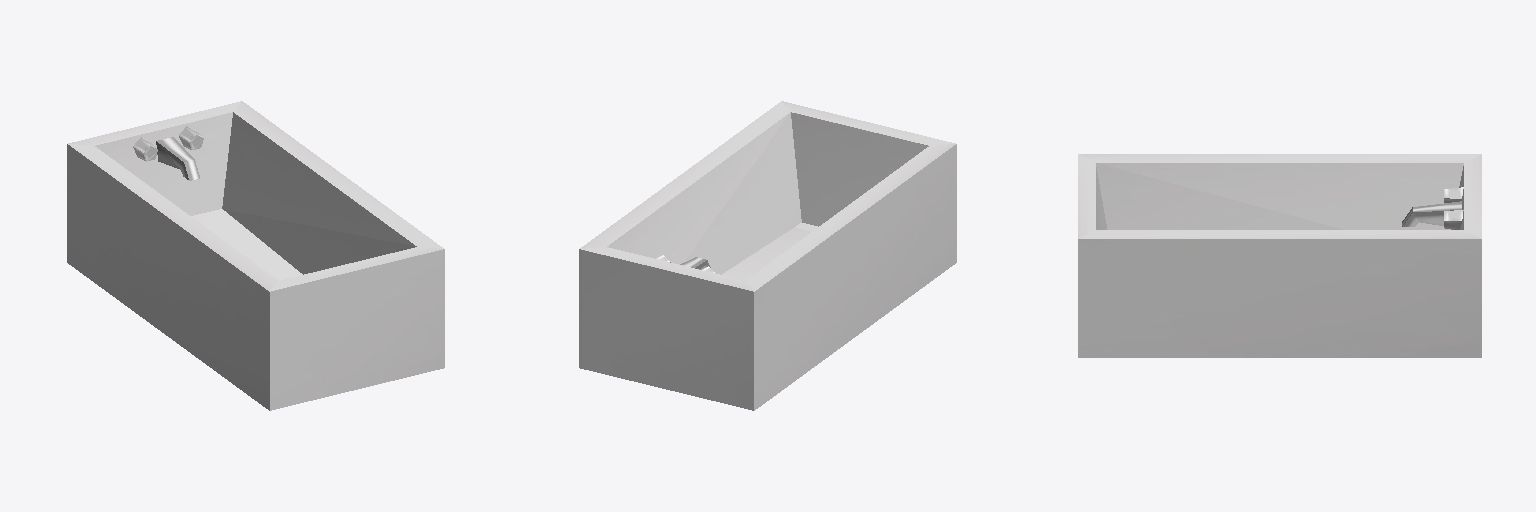
3 views of the same model, side by side, from view 1: azimuth 30°, elevation 25°; view 2: azimuth 150°, elevation 25°; view 3: azimuth 270°, elevation 25° (orthographic).
Bounding box in the file's own units: 2 × 1.3 × 4.
Materials: 1 (1 with a texture image).